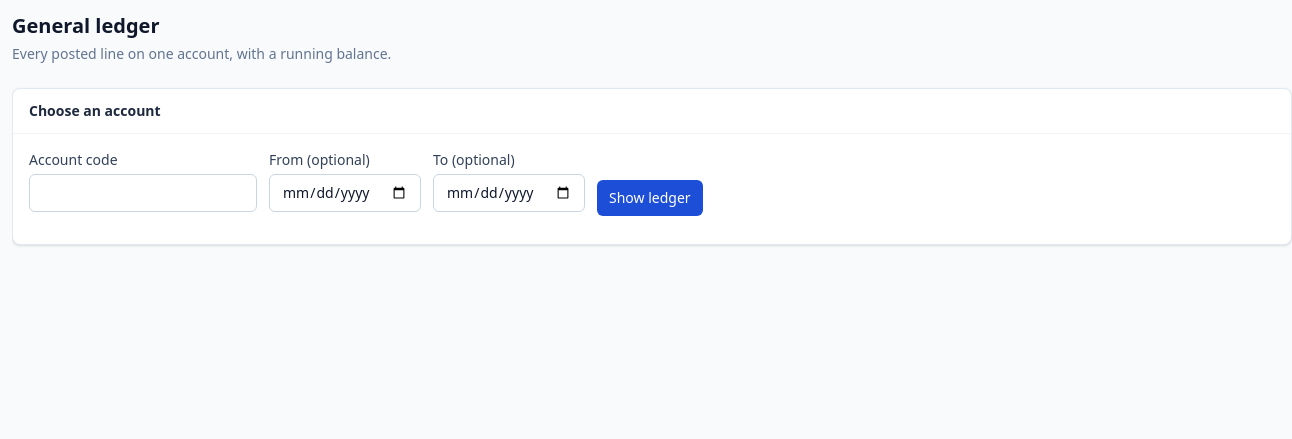
Test case: LedgerPage › shows opening, rows and closing balance
The width and height of the screenshot is (1292, 439).
Type "1000" into the field labelled "Account code" at (143, 193), box [29, 174, 257, 212]
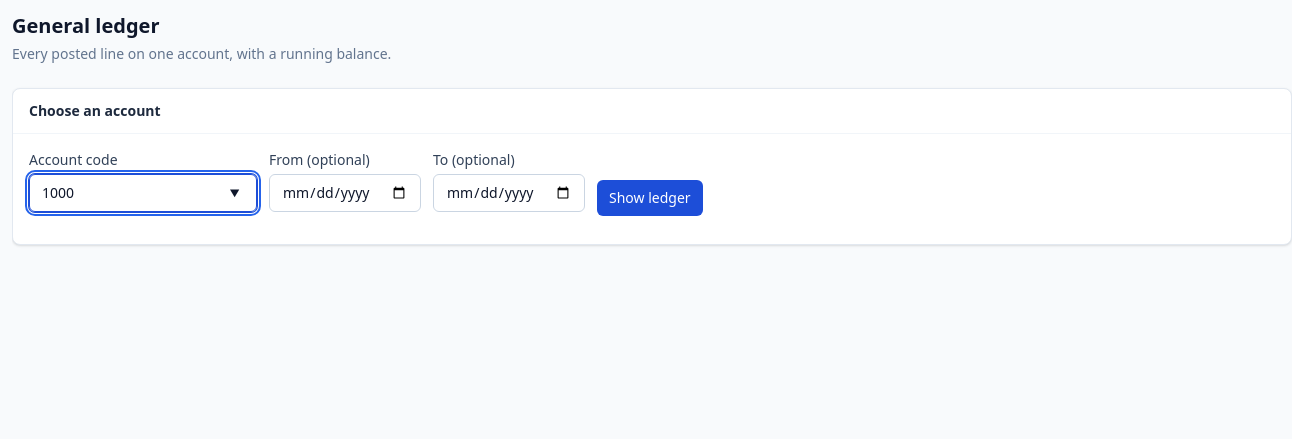
Click the button "Show ledger" at (650, 198), box [597, 180, 703, 216]
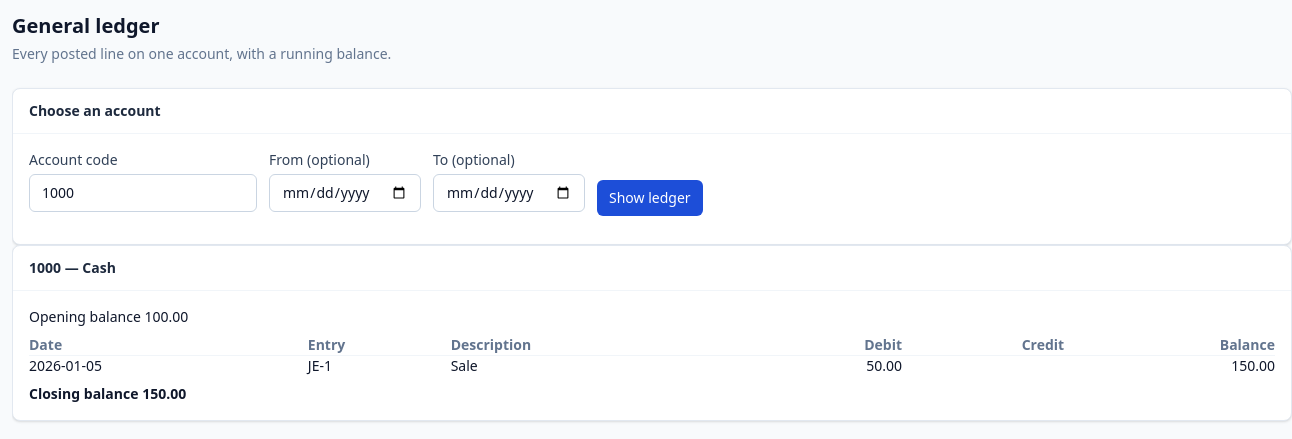
Expected: the text "JE-1" is shown, [308, 356, 451, 376]
Expected: the text "Opening balance 100.00" is shown, [29, 307, 188, 326]
Expected: the text "Closing balance 150.00" is shown, [29, 384, 186, 403]
